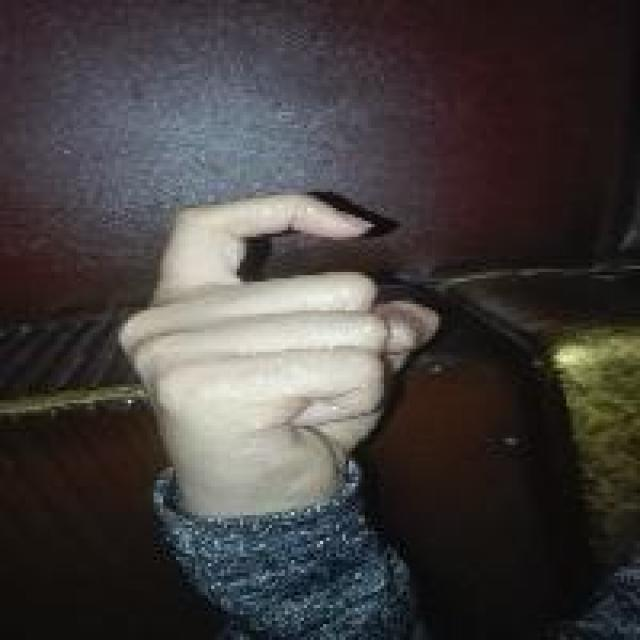X: (120, 197, 434, 494)
